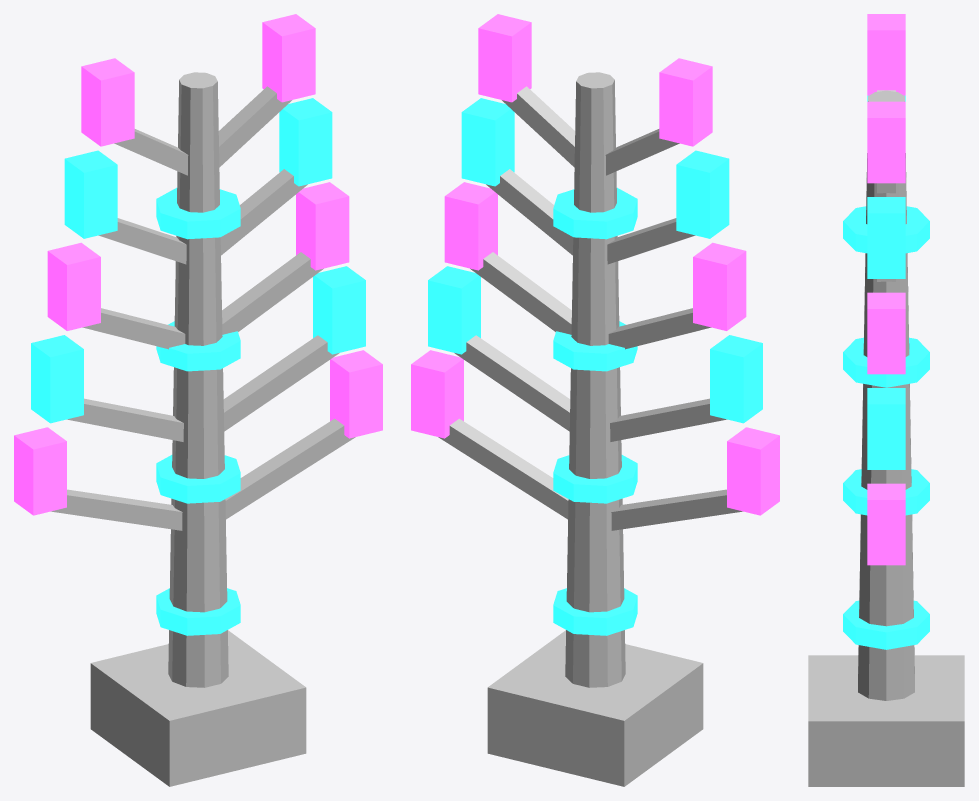
3 renders of one model, left to right at view 1: azimuth 30°, elevation 25°; view 2: azimuth 150°, elevation 25°; view 3: azimuth 270°, elevation 25°, orthographic.
Parts seen in each view (by area): view 1: Neon_AntennaTree_Showcase; view 2: Neon_AntennaTree_Showcase; view 3: Neon_AntennaTree_Showcase.
Part boxes in pixels (bbox=[...]): Neon_AntennaTree_Showcase: bbox=[14, 14, 382, 786]; Neon_AntennaTree_Showcase: bbox=[411, 14, 779, 786]; Neon_AntennaTree_Showcase: bbox=[808, 14, 964, 786].
Size of the model in its own units: 1.66 by 3.15 by 0.65.
